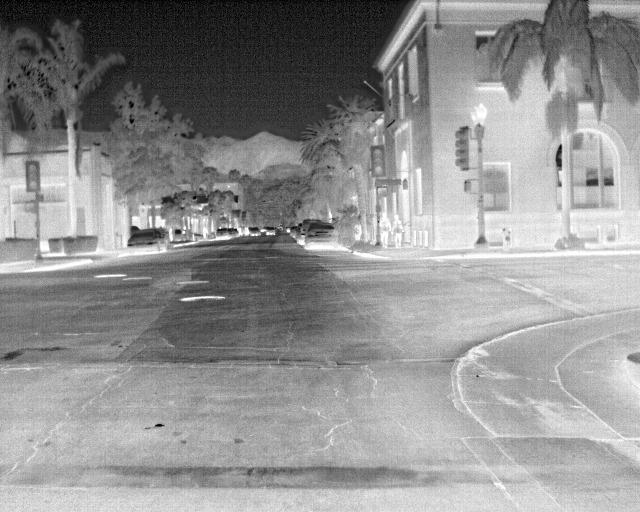bicycle: (125, 228, 168, 254), (303, 220, 341, 244), (296, 218, 326, 245), (215, 227, 231, 239), (247, 225, 260, 237), (264, 225, 276, 236)
empty: (389, 212, 405, 248), (378, 211, 393, 249)
